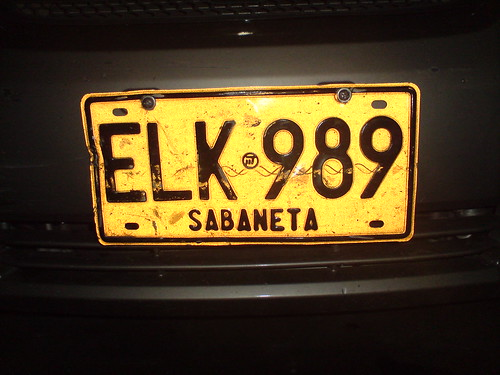placa_carro: (69, 75, 437, 258)
